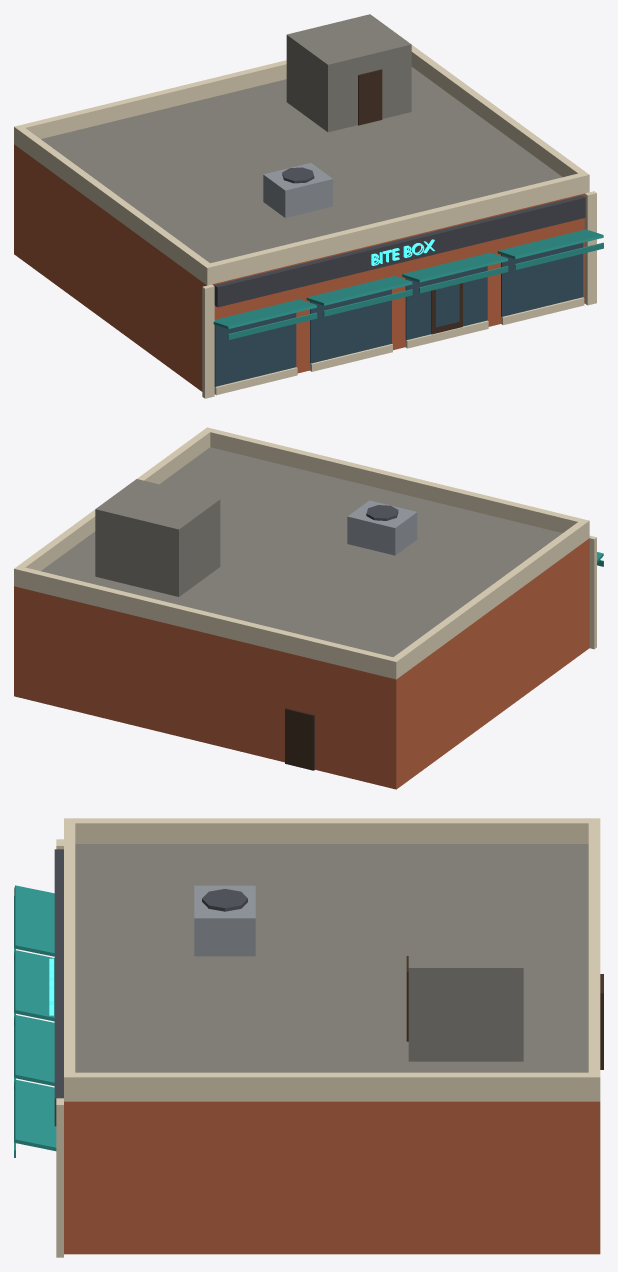
File: shop_food.glb
The picture shows the model from 3 angles, top to bottom: view 1: azimuth 30°, elevation 25°; view 2: azimuth 150°, elevation 25°; view 3: azimuth 270°, elevation 25°; orthographic projection. The views are drawn at different scales.
Visible parts, largest first — view 1: shop_food; view 2: shop_food; view 3: shop_food.
Boxes of the visible parts, x1,y1,x2,y2 form: shop_food: (14,14,603,398); shop_food: (14,427,603,789); shop_food: (14,818,603,1257).
Size of what is drawn, in the model's own units: 16.4 by 7.2 by 15.4.
